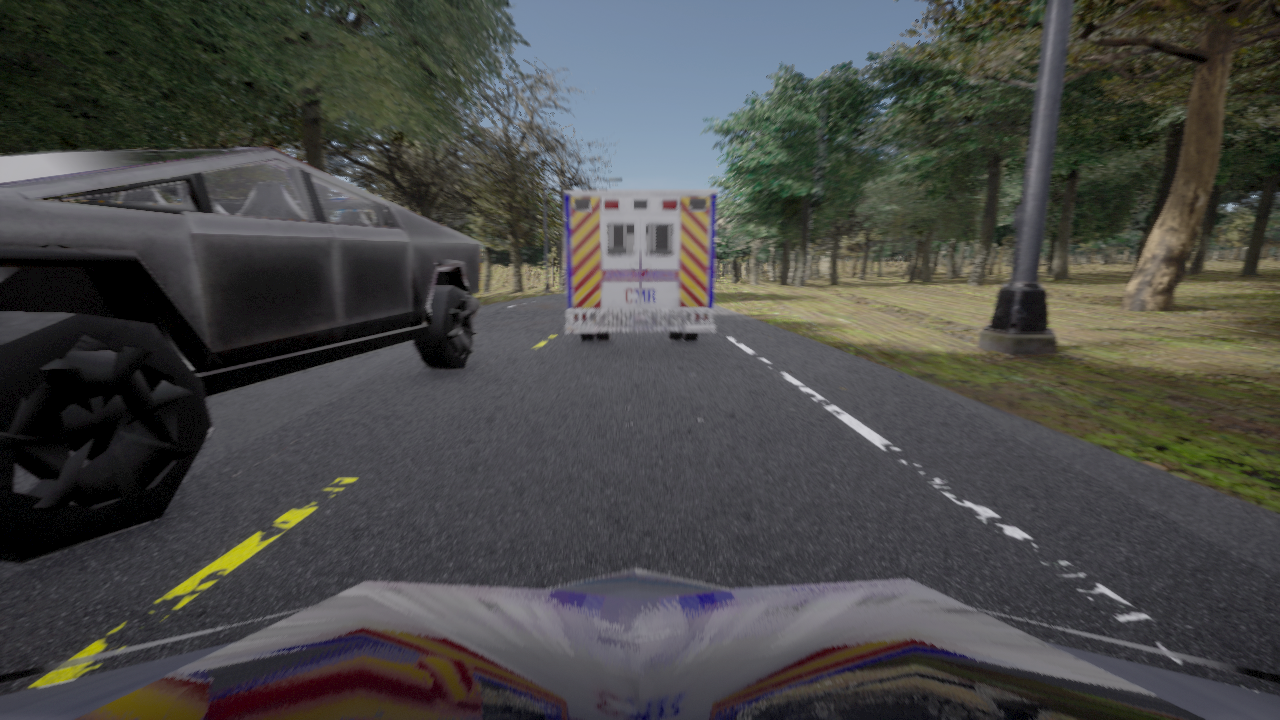cyclist: (0, 148, 480, 564), (0, 569, 1279, 719), (563, 190, 716, 341)
